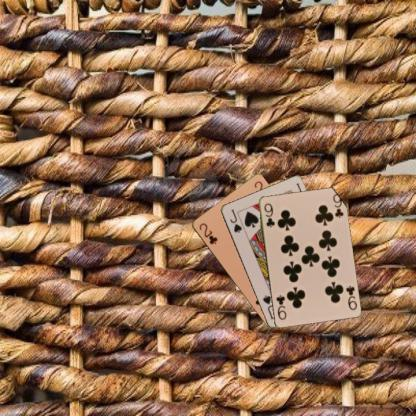2c: (196, 220, 218, 246)
9c: (343, 282, 358, 312), (261, 200, 276, 229)
Js: (227, 206, 243, 234)
